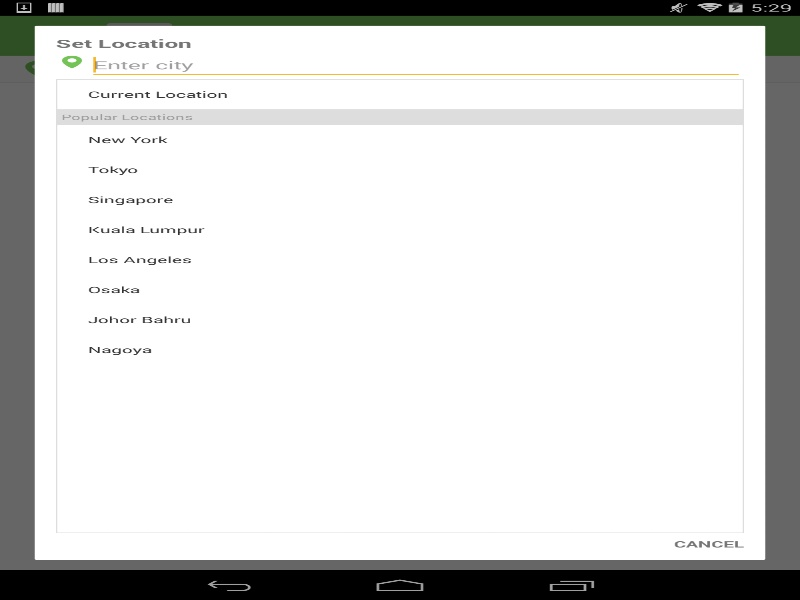Input: (88, 50, 744, 79)
